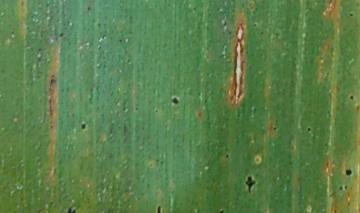tarspot: (245, 176, 256, 193), (67, 207, 77, 213), (172, 97, 179, 105), (345, 169, 351, 176), (156, 206, 161, 213), (349, 95, 354, 100), (306, 127, 311, 132), (81, 123, 85, 129), (218, 209, 223, 213), (272, 126, 277, 130), (348, 13, 353, 17), (59, 33, 63, 37), (339, 186, 342, 190), (225, 154, 228, 157), (344, 185, 347, 188)
